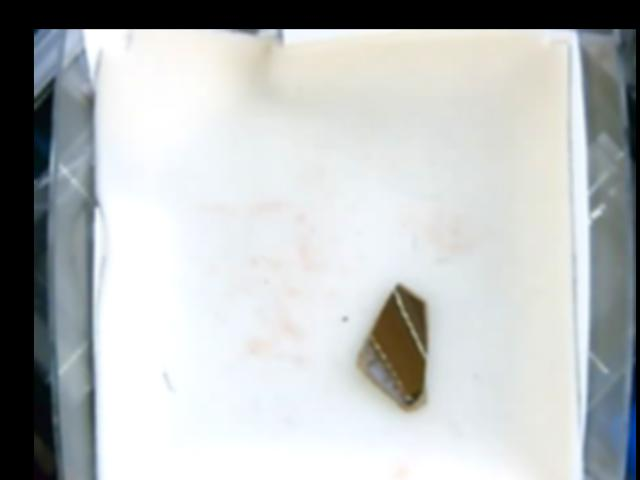China: (353, 281, 430, 412)
